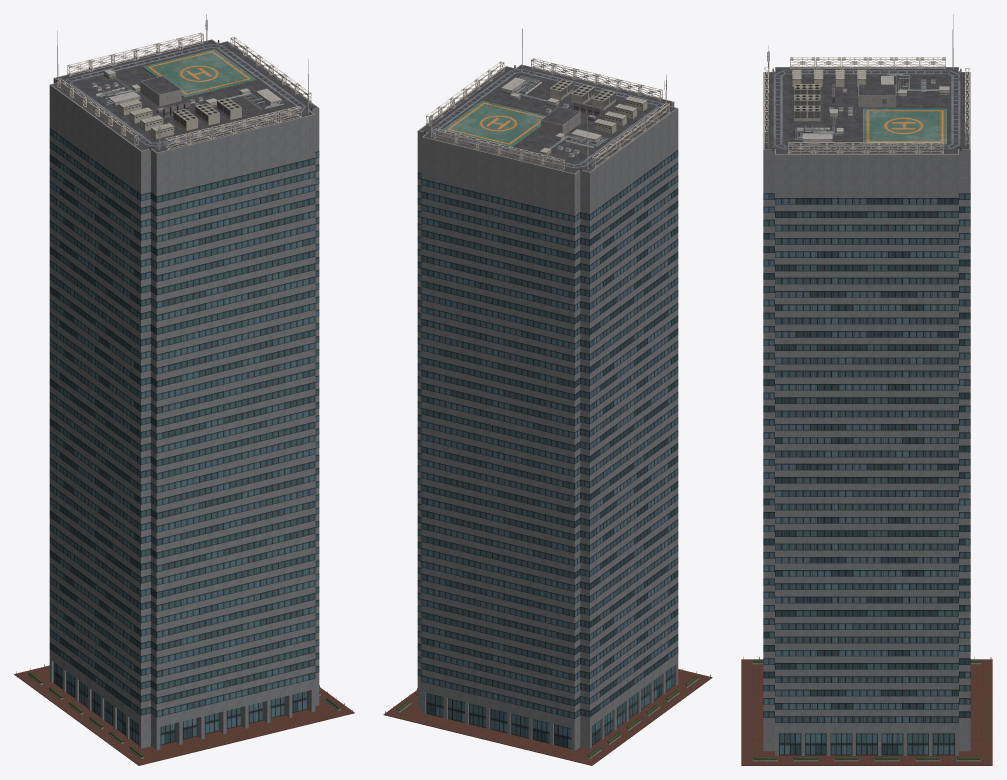
Rendered from jctlowBld50_Aa.fbx.
The picture shows the model from 3 angles, left to right: view 1: azimuth 30°, elevation 25°; view 2: azimuth 150°, elevation 25°; view 3: azimuth 270°, elevation 25°; orthographic projection. The views are drawn at different scales.
Visible parts, largest first — view 1: jctlowBld50_Aa; view 2: jctlowBld50_Aa; view 3: jctlowBld50_Aa.
Part boxes in pixels (<box>): jctlowBld50_Aa: <box>14,14,354,765</box>; jctlowBld50_Aa: <box>383,28,712,765</box>; jctlowBld50_Aa: <box>741,14,992,765</box>.
Bounding box in the file's own units: 6000 × 17320 × 6000.
Materials: 10 (10 with a texture image).
